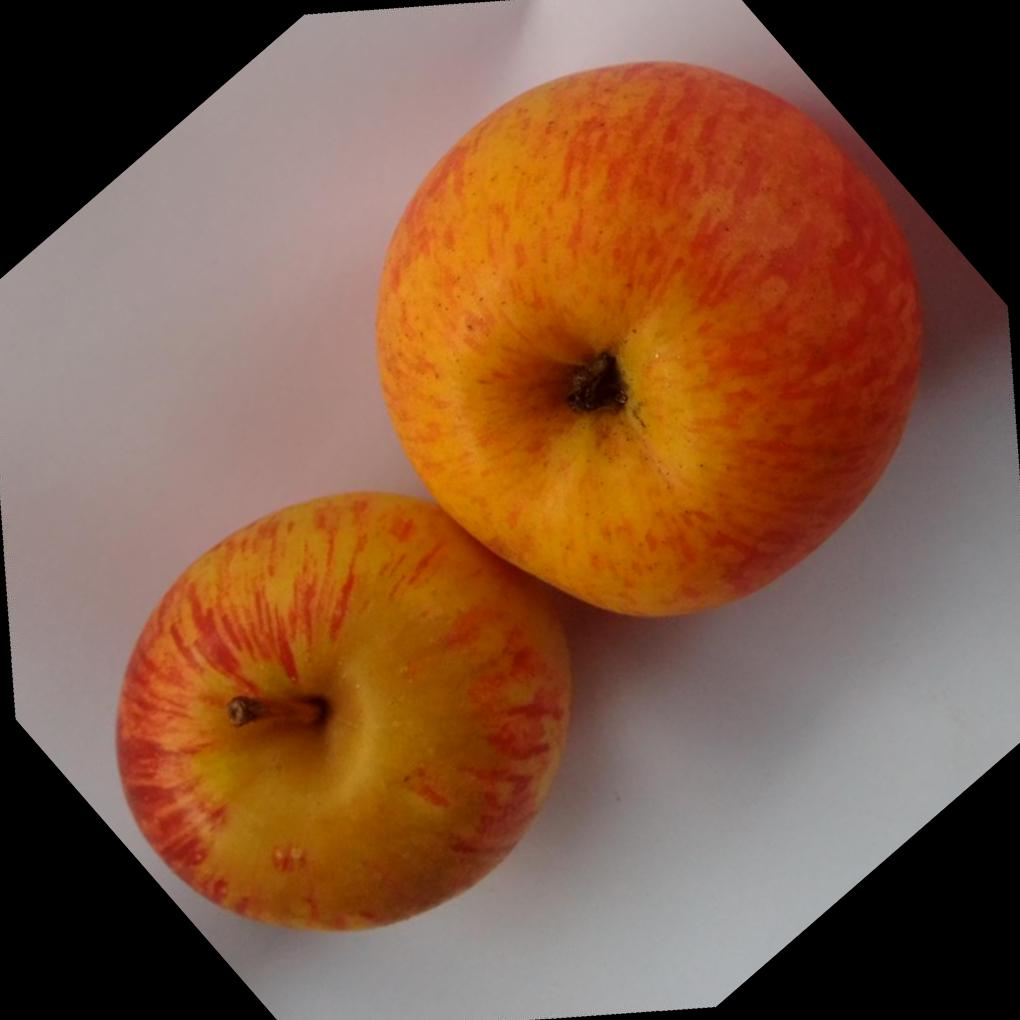FreshGuava: (116, 56, 932, 933)
